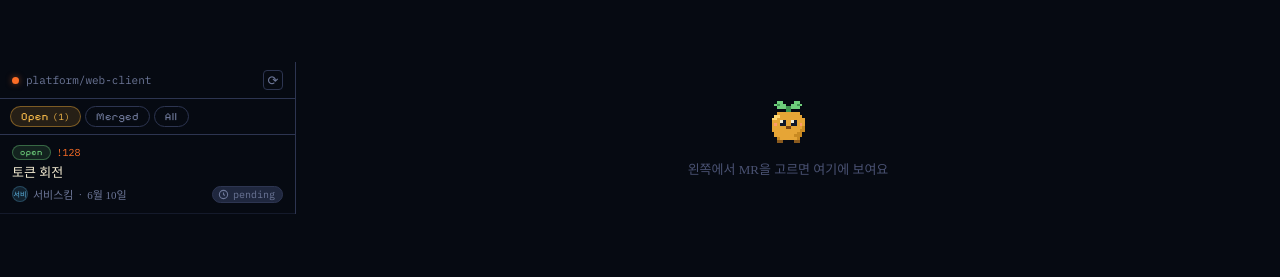
Test: MRView — GitLab MR 뷰 (GL7) › 버그3: 목록 항목을 클릭하면 해당 MR 상세가 뜬다
Check: the text "!128" is shown, box [56,146,80,159]
Click the text "토큰 회전": (38, 173) [12,165,63,180]
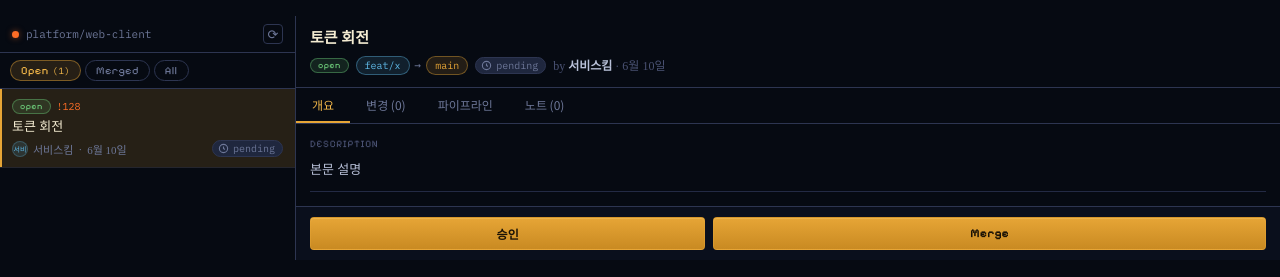
Check: the text "Description" is shown, box [310,138,378,150]
Check: the text "왼쪽에서 MR을 고르면 여기에 보여요" is gone
